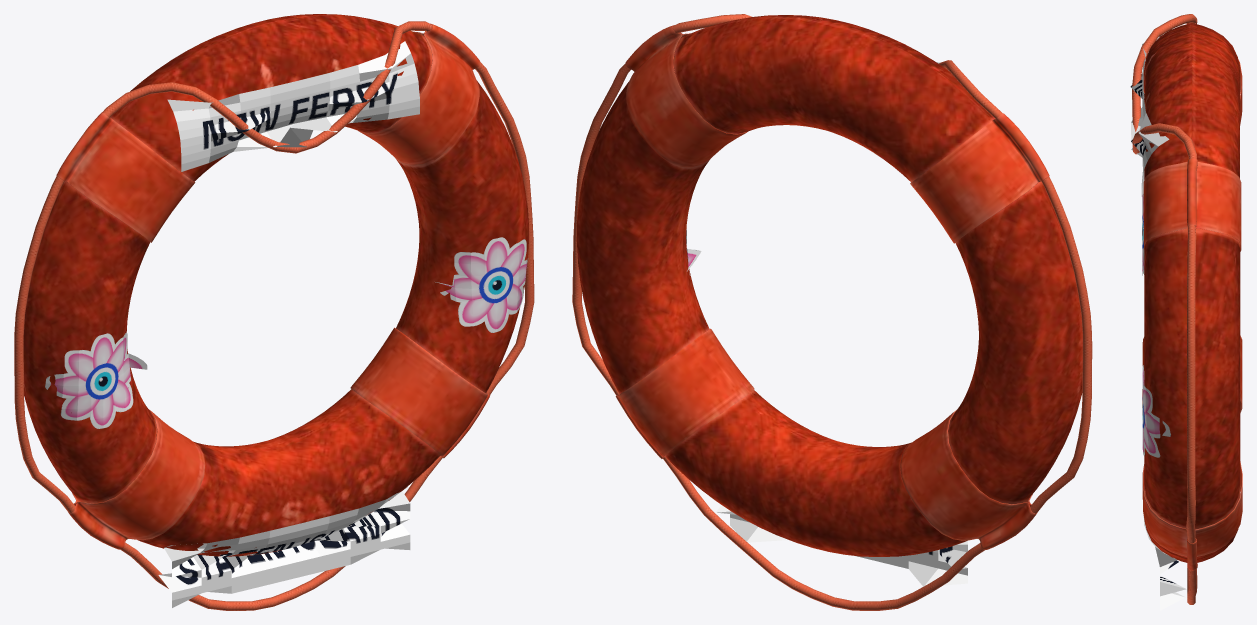
File: nyb_ferry_lifebuoy.glb
The picture shows the model from 3 angles, left to right: view 1: azimuth 30°, elevation 25°; view 2: azimuth 150°, elevation 25°; view 3: azimuth 270°, elevation 25°; orthographic projection. The views are drawn at different scales.
Visible parts, largest first — view 1: lifebuoy, stk_lbl_9b8c619974.png, stk_lbl_fb1b0c29e7.png, stk_eyeflower_die.png, stk_eyeflower_die.png.001; view 2: lifebuoy, stk_lbl_fb1b0c29e7.png; view 3: lifebuoy, stk_lbl_9b8c619974.png, stk_eyeflower_die.png.001, stk_lbl_fb1b0c29e7.png, stk_eyeflower_die.png.
Part boxes in pixels (x1,y1,x2,y2): lifebuoy: (14, 14, 534, 610); stk_lbl_9b8c619974.png: (167, 41, 419, 171); stk_lbl_fb1b0c29e7.png: (158, 486, 410, 607); stk_eyeflower_die.png: (45, 332, 147, 428); stk_eyeflower_die.png.001: (435, 237, 528, 332); lifebuoy: (572, 14, 1092, 610); stk_lbl_fb1b0c29e7.png: (716, 505, 967, 586); lifebuoy: (1132, 14, 1242, 604); stk_lbl_9b8c619974.png: (1130, 35, 1169, 196); stk_eyeflower_die.png.001: (1142, 365, 1170, 457); stk_lbl_fb1b0c29e7.png: (1143, 516, 1186, 610); stk_eyeflower_die.png: (1142, 193, 1144, 275).
Size of the model in its own units: 0.7831 by 0.8412 by 0.1573.
Materials: 5 (5 with a texture image).
